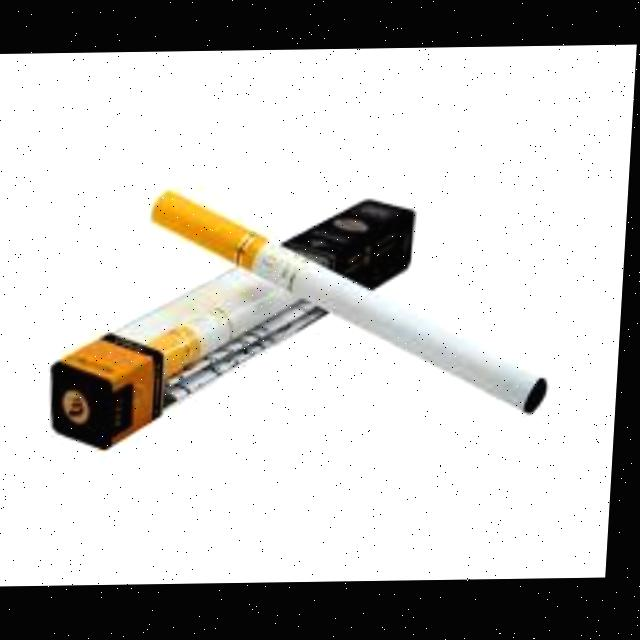cigarette: (145, 187, 564, 421)
